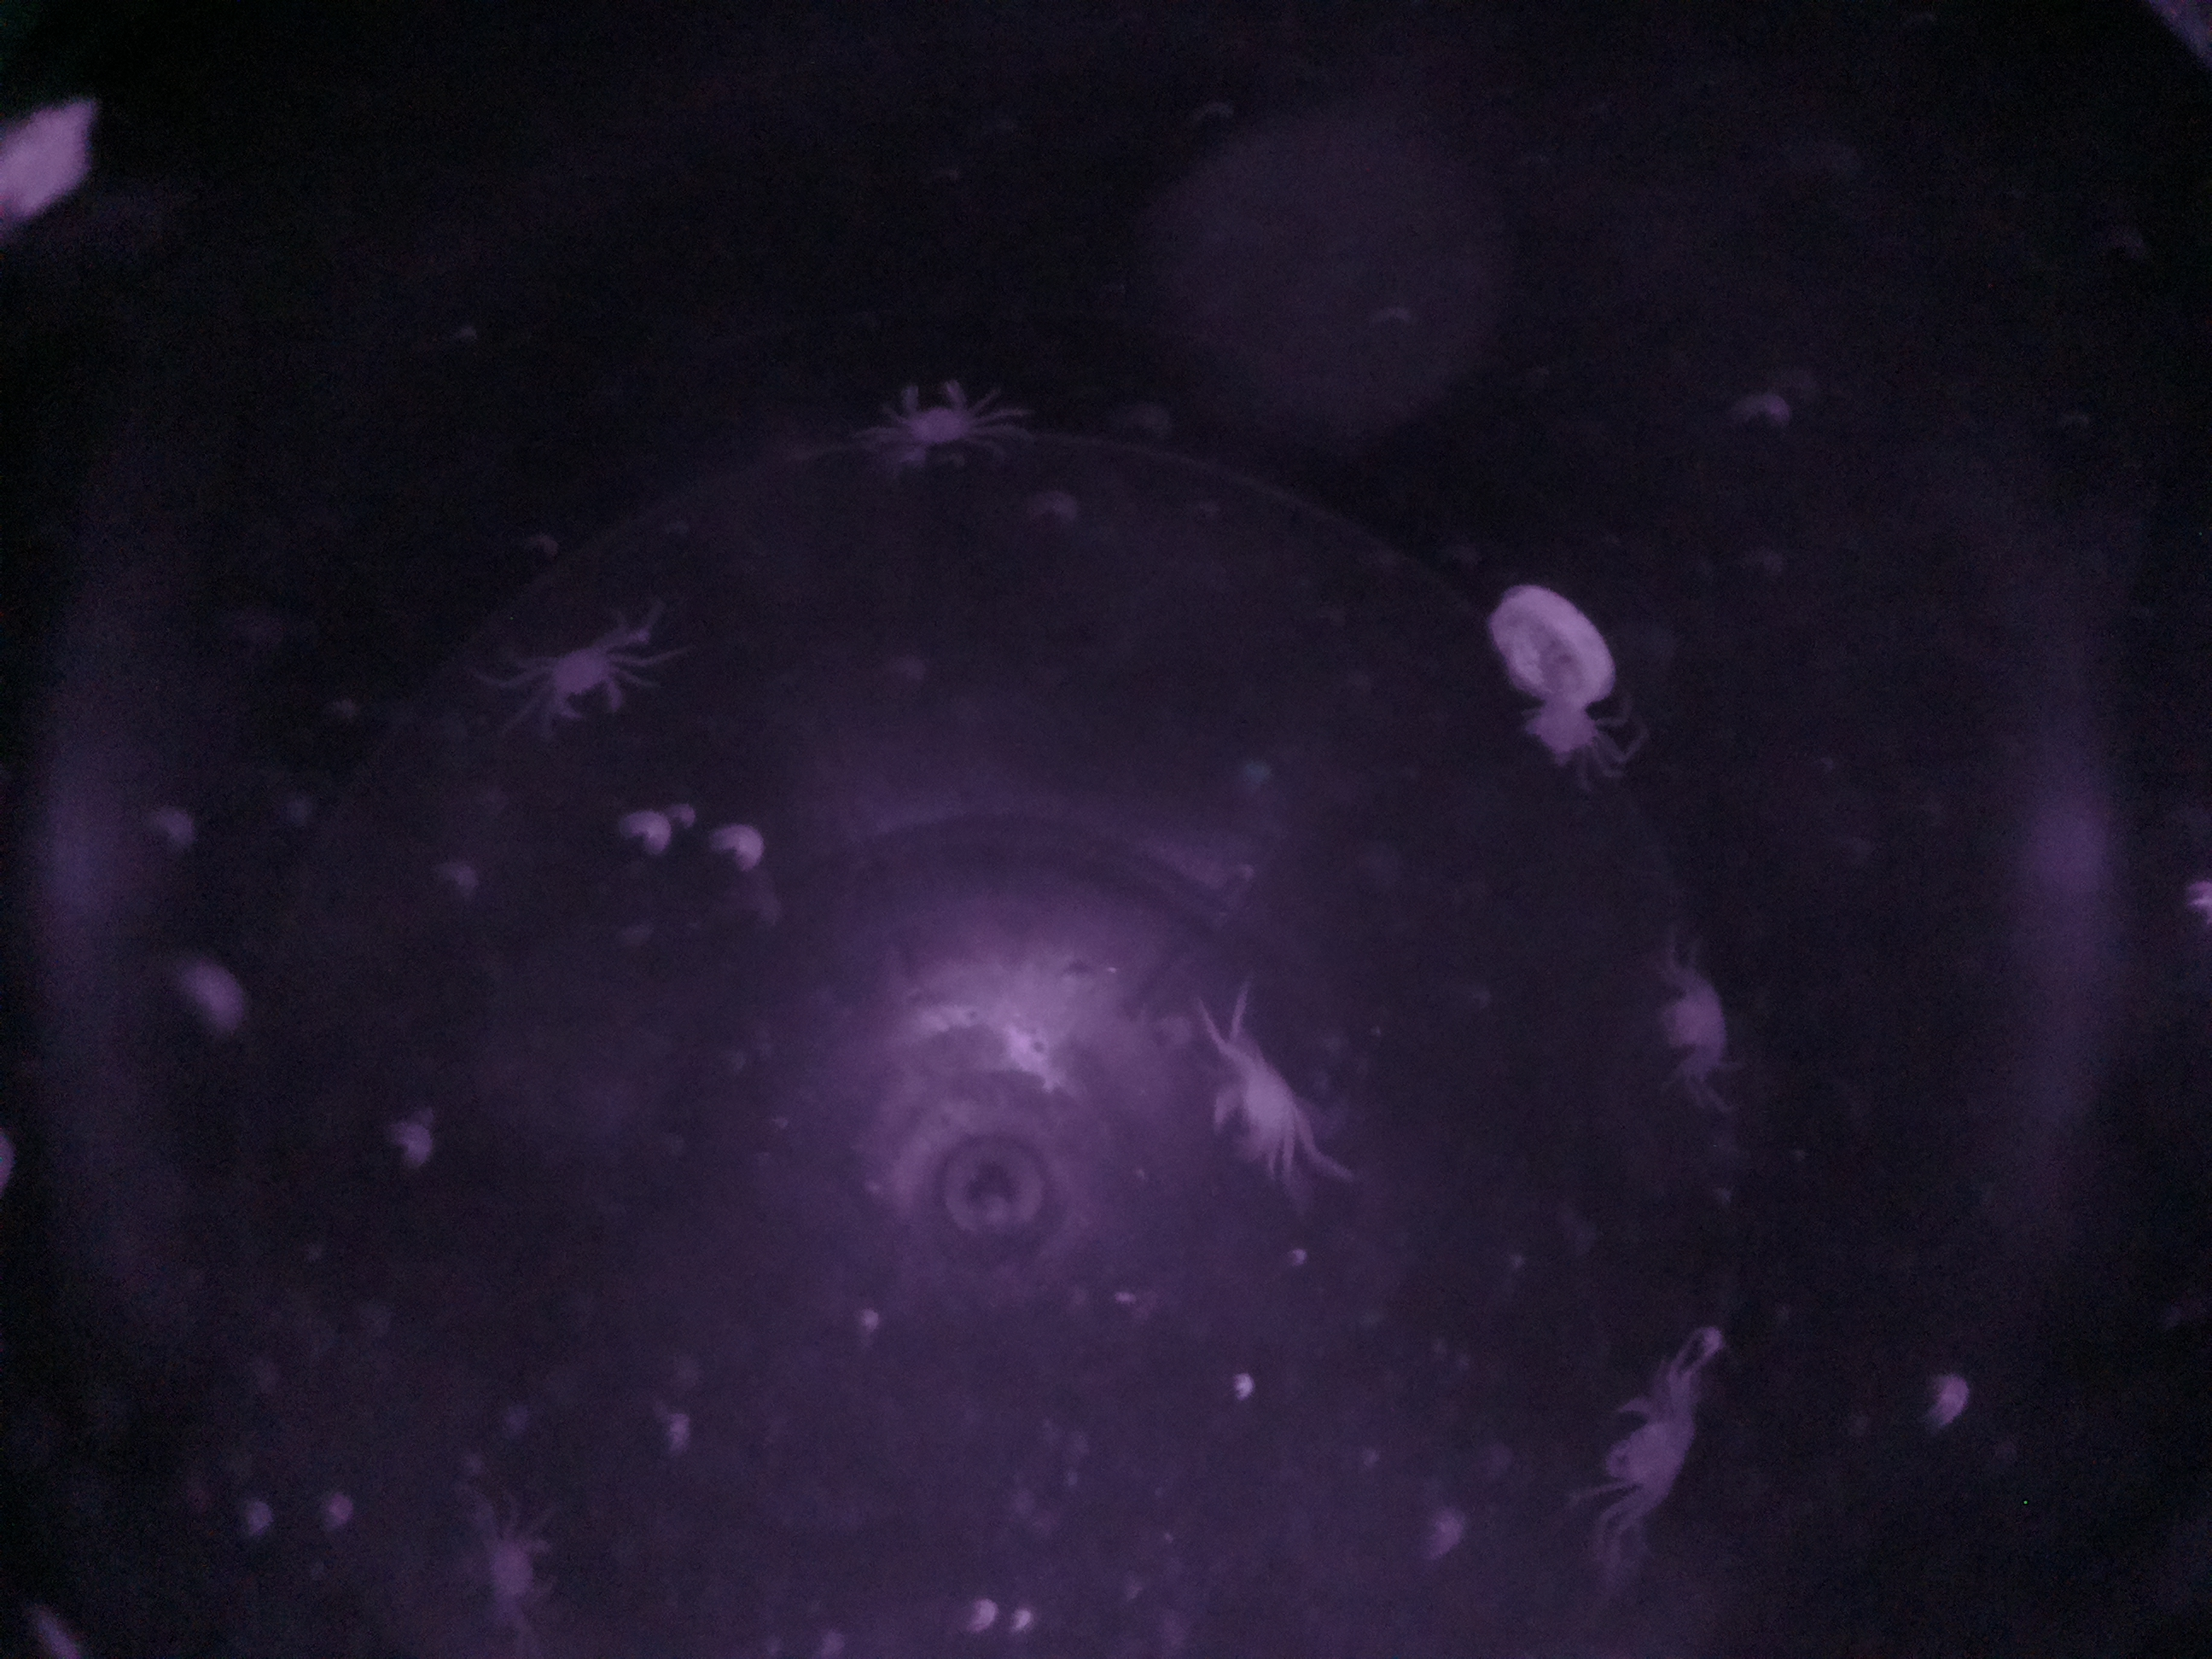Crab: (1200, 1044, 1325, 1182), (523, 619, 650, 751)
